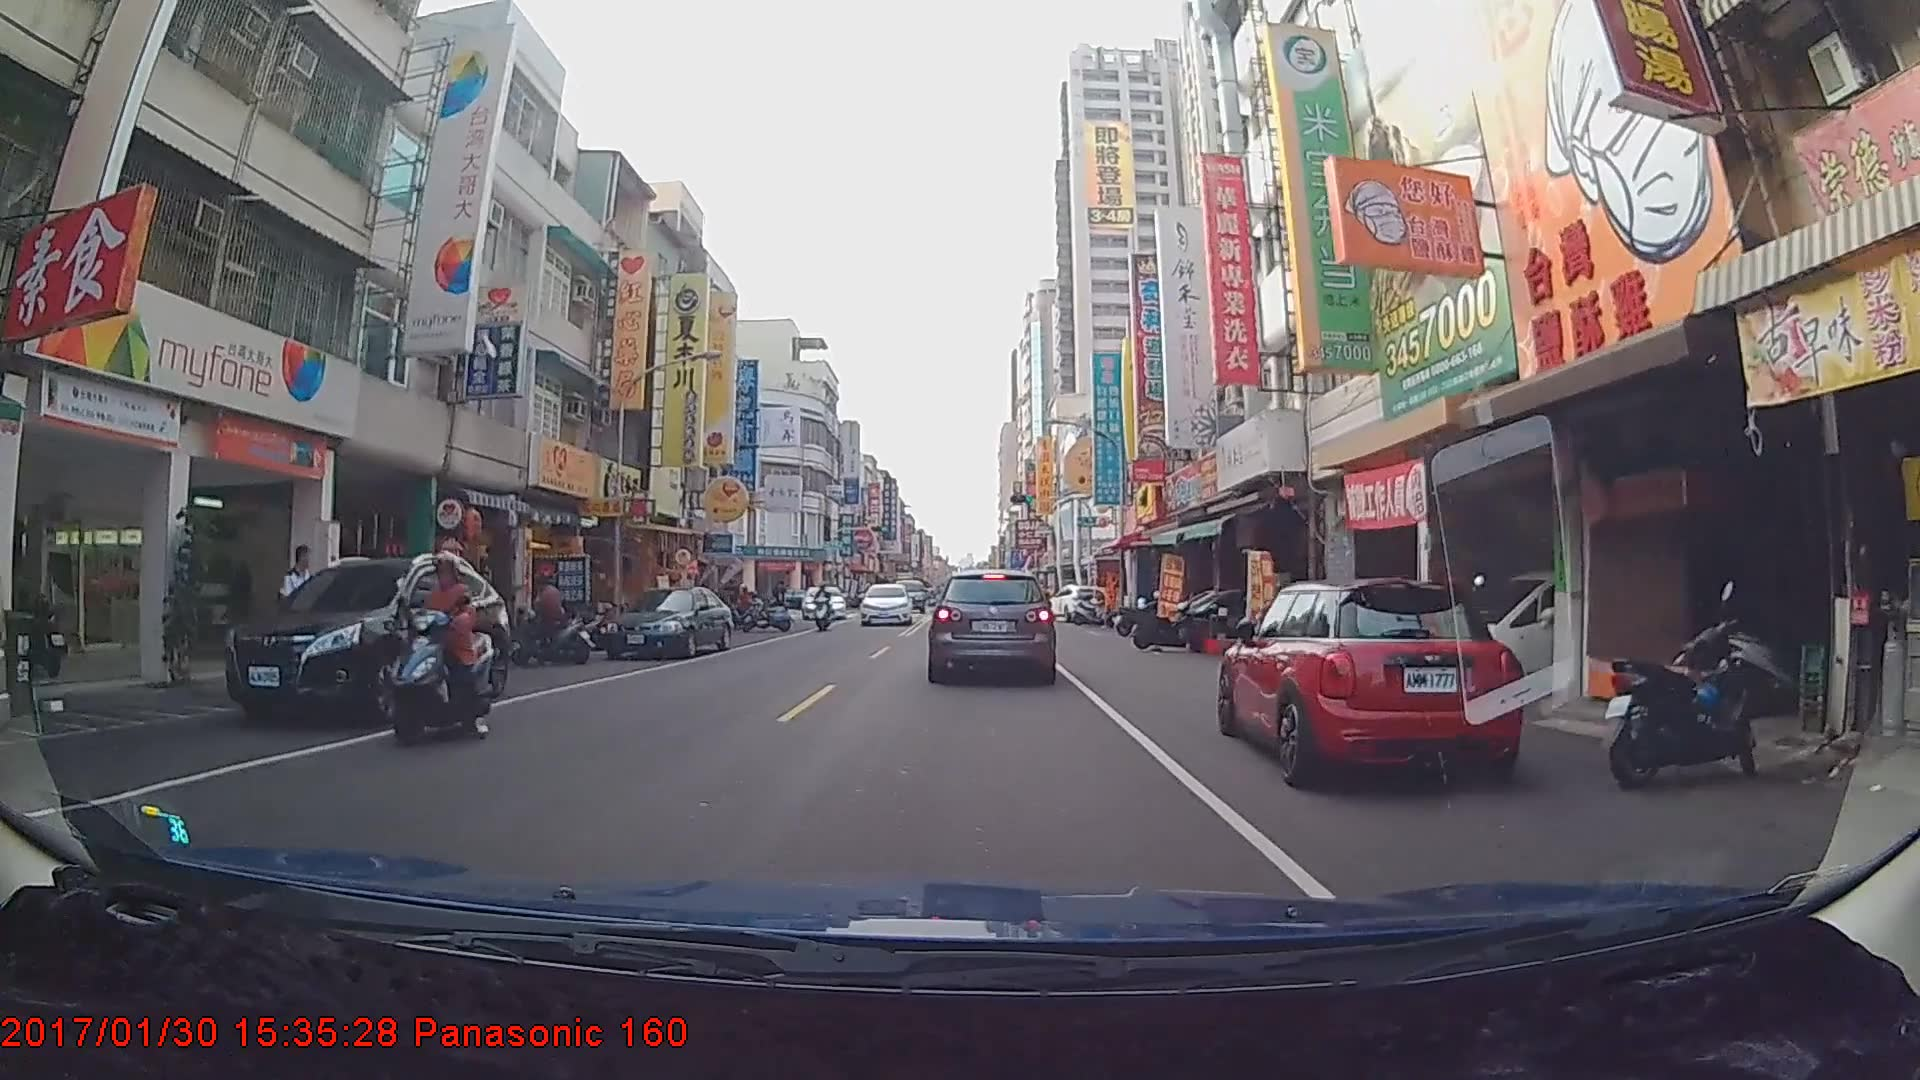rider: (372, 547, 499, 750), (503, 563, 598, 668), (810, 582, 837, 634)
vehicle: (1224, 570, 1517, 785), (222, 551, 511, 729), (928, 566, 1057, 683), (597, 587, 732, 660), (1043, 581, 1104, 622), (857, 582, 913, 625), (800, 583, 845, 618)
